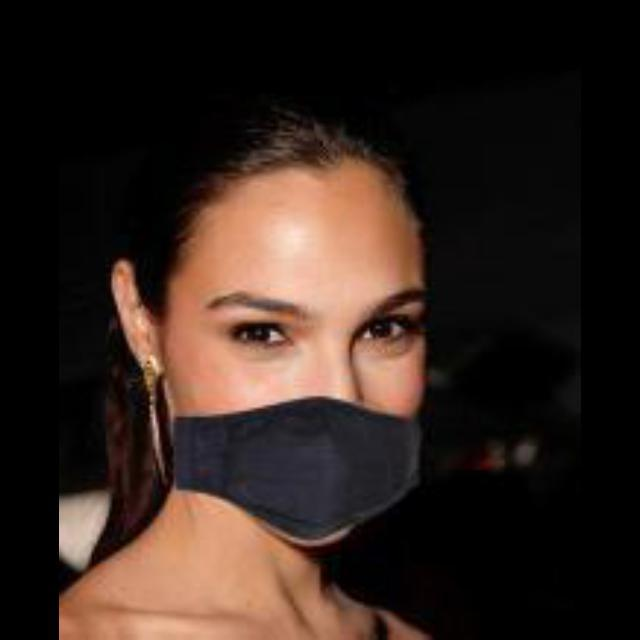suspicion: (166, 94, 468, 528)
